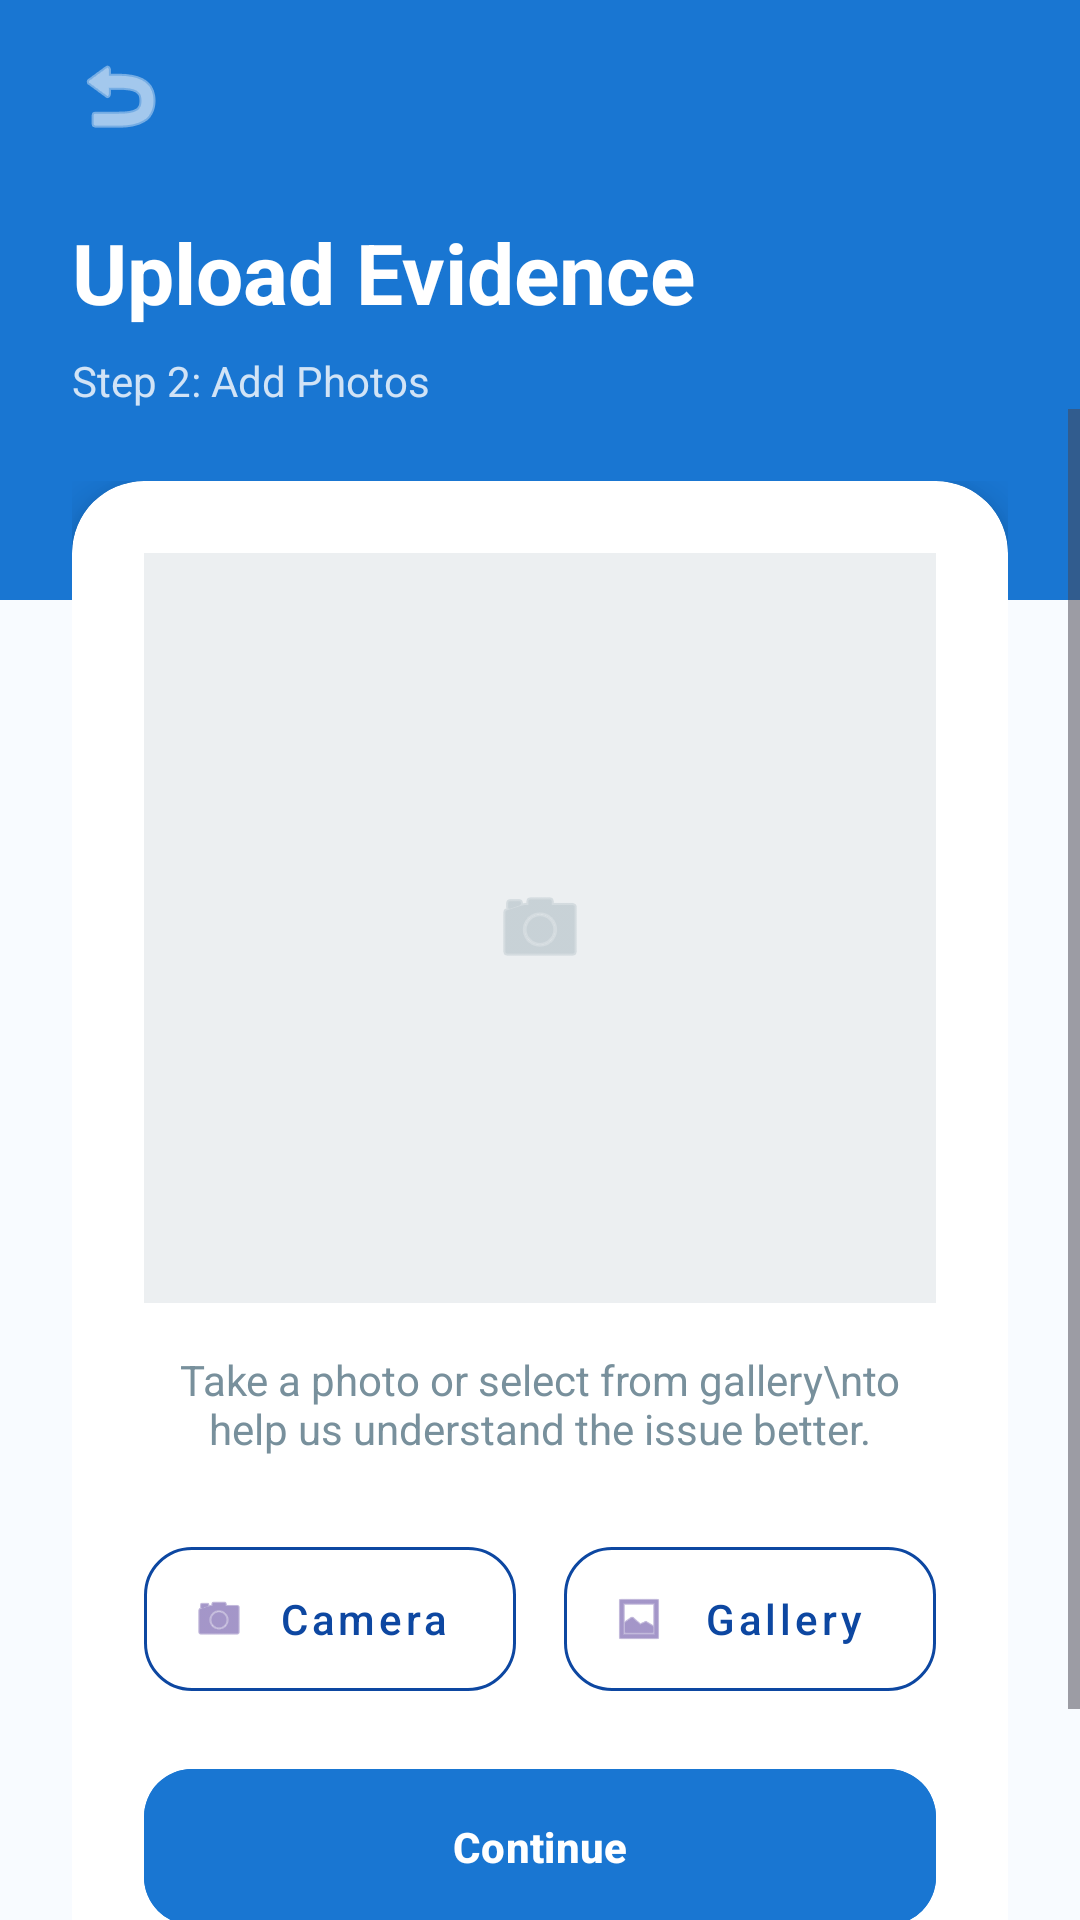

Where to tap for icons on this 1080px x 1920px app screen, as (x,y):
Back: (121,96)
